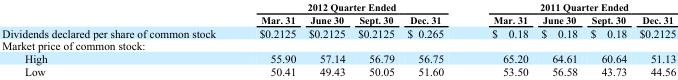table: (1, 1, 675, 76)
table column: (1, 1, 237, 76), (400, 1, 467, 76), (467, 1, 534, 76), (237, 1, 301, 76), (350, 1, 400, 76), (301, 1, 350, 76), (534, 1, 583, 76), (583, 1, 632, 76), (632, 1, 675, 76)
table column header: (1, 1, 675, 25)
table projected row header: (1, 39, 675, 51)
table row: (1, 25, 675, 39), (1, 51, 675, 64), (1, 1, 675, 13), (1, 13, 675, 25), (1, 39, 675, 51), (1, 64, 675, 76)
table spanning cell: (237, 1, 467, 13), (467, 1, 675, 13)
